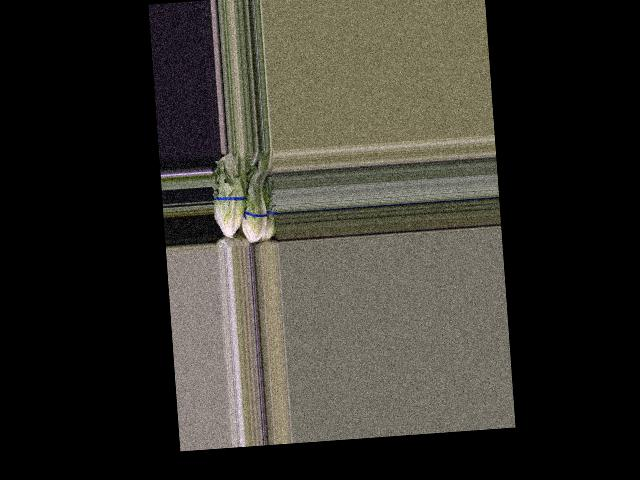lettuce: (237, 166, 275, 244)
